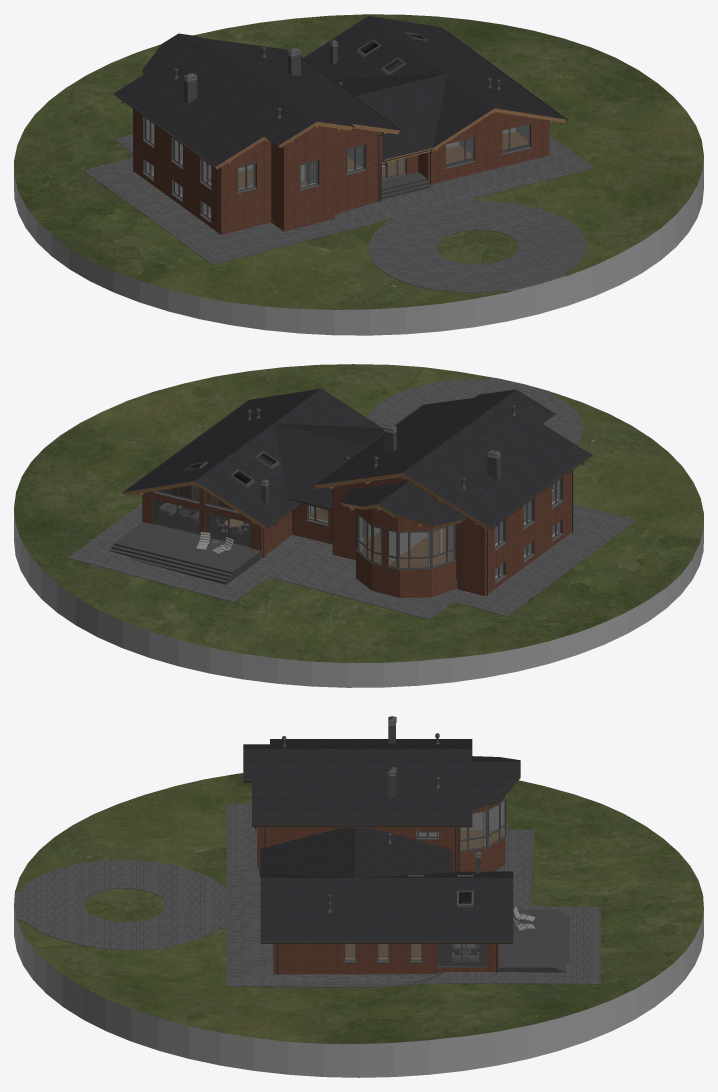
The picture shows the model from 3 angles, top to bottom: view 1: azimuth 30°, elevation 25°; view 2: azimuth 150°, elevation 25°; view 3: azimuth 270°, elevation 25°; orthographic projection.
Parts seen in each view (by area): view 1: object 21, object 3, object 6, object 38, object 36, object 49, object 44, object 1, RAL 9010 _RAL 9010 _0, object 5, object 42, object 4 (+1 smaller); view 2: object 21, object 3, object 6, object 36, object 38, object 49, object 37, object 5, object 44, object 1, RAL 9010 _RAL 9010 _0, object 4 (+2 smaller); view 3: object 21, object 3, object 6, object 36, object 38, object 37, object 49, object 42, object 1, object 44, object 5, object 4 (+2 smaller).
Part boxes in pixels (left/top/right/bottom): object 21: left=14, top=14, right=703, bottom=309; object 3: left=115, top=16, right=565, bottom=166; object 6: left=83, top=46, right=594, bottom=292; object 38: left=134, top=44, right=549, bottom=234; object 36: left=14, top=157, right=703, bottom=335; object 49: left=146, top=118, right=529, bottom=218; object 44: left=142, top=40, right=532, bottom=222; object 1: left=115, top=93, right=566, bottom=169; RAL 9010 _RAL 9010 _0: left=146, top=62, right=529, bottom=217; object 5: left=145, top=45, right=529, bottom=219; object 42: left=113, top=27, right=567, bottom=233; object 4: left=208, top=131, right=527, bottom=188; object 21: left=14, top=364, right=703, bottom=662; object 3: left=124, top=388, right=590, bottom=527; object 6: left=68, top=377, right=636, bottom=619; object 36: left=14, top=509, right=703, bottom=687; object 38: left=142, top=470, right=573, bottom=597; object 49: left=155, top=479, right=560, bottom=579; object 37: left=109, top=507, right=261, bottom=584; object 5: left=154, top=478, right=561, bottom=580; object 44: left=154, top=404, right=563, bottom=583; object 1: left=124, top=414, right=590, bottom=530; RAL 9010 _RAL 9010 _0: left=259, top=456, right=559, bottom=578; object 4: left=310, top=508, right=451, bottom=567; object 21: left=15, top=773, right=703, bottom=1043; object 3: left=243, top=739, right=520, bottom=941; object 6: left=14, top=803, right=600, bottom=987; object 36: left=14, top=907, right=703, bottom=1077; object 38: left=257, top=798, right=505, bottom=974; object 37: left=438, top=909, right=569, bottom=972; object 49: left=345, top=800, right=504, bottom=965; object 42: left=243, top=739, right=513, bottom=974; object 1: left=243, top=777, right=520, bottom=943; object 44: left=272, top=716, right=506, bottom=967; object 5: left=344, top=798, right=506, bottom=966; object 4: left=345, top=830, right=503, bottom=957.
Bounding box in the file's own units: 50.55 × 11.4 × 50.56.
50 materials, 17 textured.
